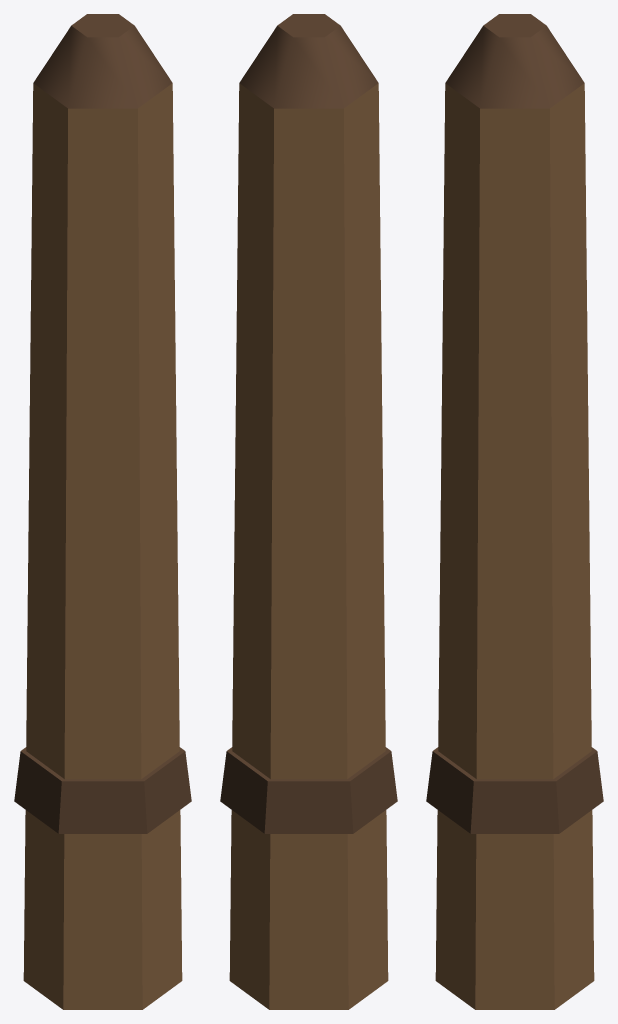
Rendered from Fence_Post.fbx.
3 views of the same model, side by side, from view 1: azimuth 30°, elevation 25°; view 2: azimuth 150°, elevation 25°; view 3: azimuth 270°, elevation 25° (orthographic).
Parts seen in each view (by area): view 1: Fence_Post_EXP; view 2: Fence_Post_EXP; view 3: Fence_Post_EXP.
Boxes of the visible parts, left/top/right/bottom form: Fence_Post_EXP: left=14, top=14, right=191, bottom=1009; Fence_Post_EXP: left=220, top=14, right=397, bottom=1009; Fence_Post_EXP: left=426, top=14, right=603, bottom=1009.
Size of the model in its own units: 0.194 by 1.33 by 0.224.
